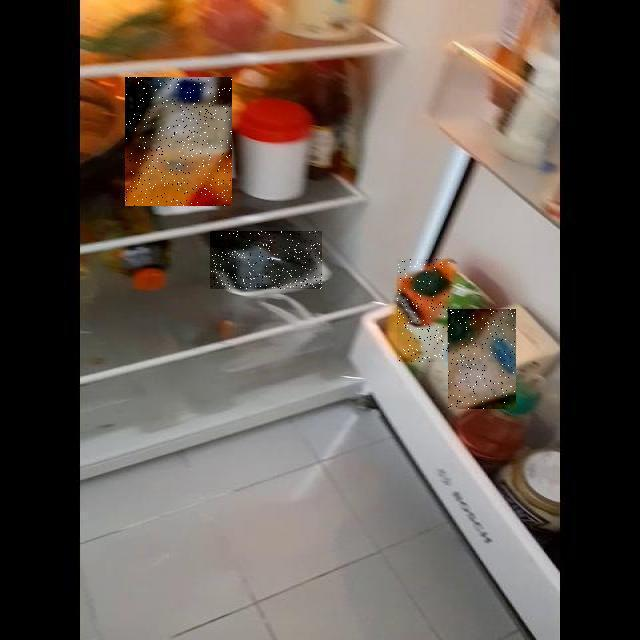Broccoli: (210, 231, 322, 289)
Juice: (397, 259, 449, 362)
Milk: (125, 77, 232, 206), (448, 309, 516, 409)
